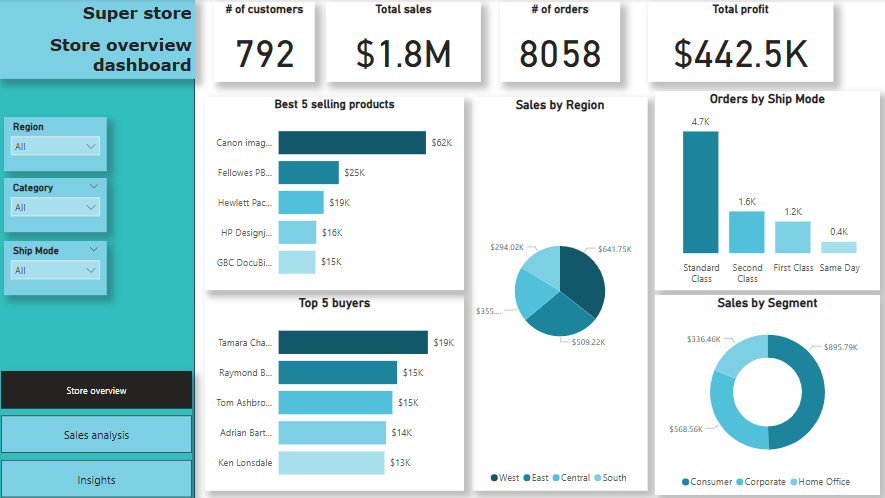

This screenshot's page, from the dashboard's own definition file:
{"tool":"powerbi","page":{"name":"Store overview","canvas":[1280,720],"ordinal":0},"visuals":[{"type":"card","title":"# of customers","fields":{"Values":["Sample - Superstore.Customer ID"]},"box":[311,4.3,145.4,115.2],"z":0},{"type":"card","title":"# of orders","fields":{"Values":["Sample - Superstore.Order ID"]},"box":[723.3,5,173.3,115],"z":1000},{"type":"card","title":"Total profit","fields":{"Values":["Sample - Superstore.Profit"]},"box":[936.7,5,266.7,115],"z":2000},{"type":"pieChart","title":"Sales by Region","fields":{"Category":["Sample - Superstore.Region"],"Y":["Sample - Superstore.Sales"]},"box":[682.6,141.1,253.4,567.4],"z":3000},{"type":"barChart","title":"Top 5 buyers","fields":{"Category":["Sample - Superstore.Customer Name"],"Y":["Sample - Superstore.Sales"]},"box":[298.1,426.2,373,282.2],"z":4000},{"type":"barChart","title":"Best 5 selling products","fields":{"Category":["Sample - Superstore.Product Name"],"Y":["Sample - Superstore.Sales"]},"box":[298.1,141.1,373,277.9],"z":5000},{"type":"card","title":"Total sales","fields":{"Values":["Sample - Superstore.Sales"]},"box":[471.7,5,223.3,115],"z":6000},{"type":"shape","box":[0,0,283.7,720],"z":7000},{"type":"textbox","box":[0,0,283.7,115.2],"z":8000},{"type":"slicer","fields":{"Values":["Sample - Superstore.Region"]},"box":[8.6,169.9,148.3,77.8],"z":9000},{"type":"slicer","fields":{"Values":["Sample - Superstore.Category"]},"box":[8.6,257.8,148.3,77.8],"z":10000},{"type":"columnChart","title":"Orders by Ship Mode","fields":{"Category":["Sample - Superstore.Ship Mode"],"Y":["Sample - Superstore.Order ID"]},"box":[946.1,132.5,324,286.6],"z":11000},{"type":"donutChart","title":"Sales by Segment","fields":{"Category":["Sample - Superstore.Segment"],"Y":["Sample - Superstore.Sales"]},"box":[946.1,426.2,324,288],"z":12000},{"type":"pageNavigator","box":[4.3,535.7,275,184.3],"z":13000},{"type":"slicer","fields":{"Values":["Sample - Superstore.Ship Mode"]},"box":[8.6,348.5,148.3,77.8],"z":14000}]}

Visuals, with their boxes in screenshot pixels (x1, y1, x2, y2), scaled from the page's 1280x720 canvas onto the 885x498 screenshot:
"# of customers" card: 215,3,316,83
"# of orders" card: 500,3,620,83
"Total profit" card: 648,3,832,83
"Sales by Region" pieChart: 472,98,647,490
"Top 5 buyers" barChart: 206,295,464,490
"Best 5 selling products" barChart: 206,98,464,290
"Total sales" card: 326,3,481,83
shape: 0,0,196,497
textbox: 0,0,196,80
slicer - Sample - Superstore.Region: 6,118,108,171
slicer - Sample - Superstore.Category: 6,178,108,232
"Orders by Ship Mode" columnChart: 654,92,878,290
"Sales by Segment" donutChart: 654,295,878,494
pageNavigator: 3,371,193,497
slicer - Sample - Superstore.Ship Mode: 6,241,108,295
